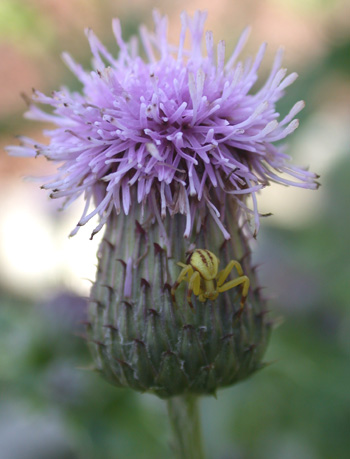thistle: (29, 15, 317, 412)
